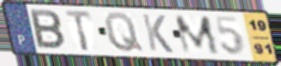5: (213, 15, 247, 58)
B: (28, 8, 67, 51)
K: (140, 12, 175, 55)
M: (173, 15, 222, 56)
Q: (102, 11, 146, 54)
T: (63, 9, 94, 53)
